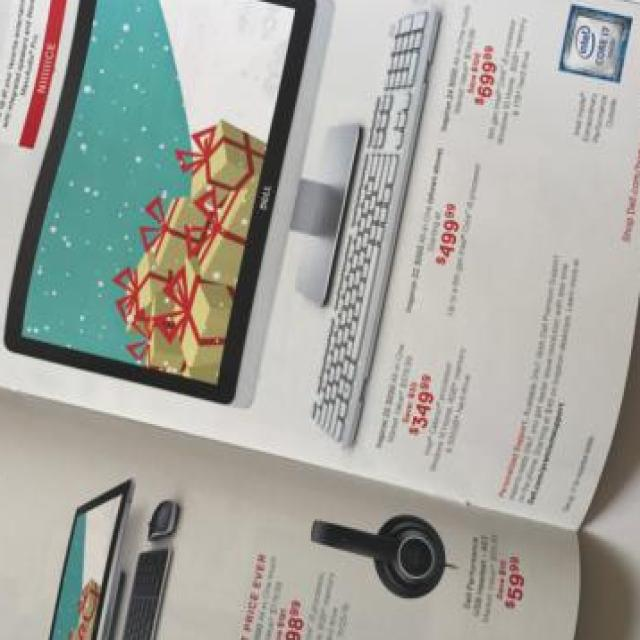organic: (3, 9, 618, 614)
